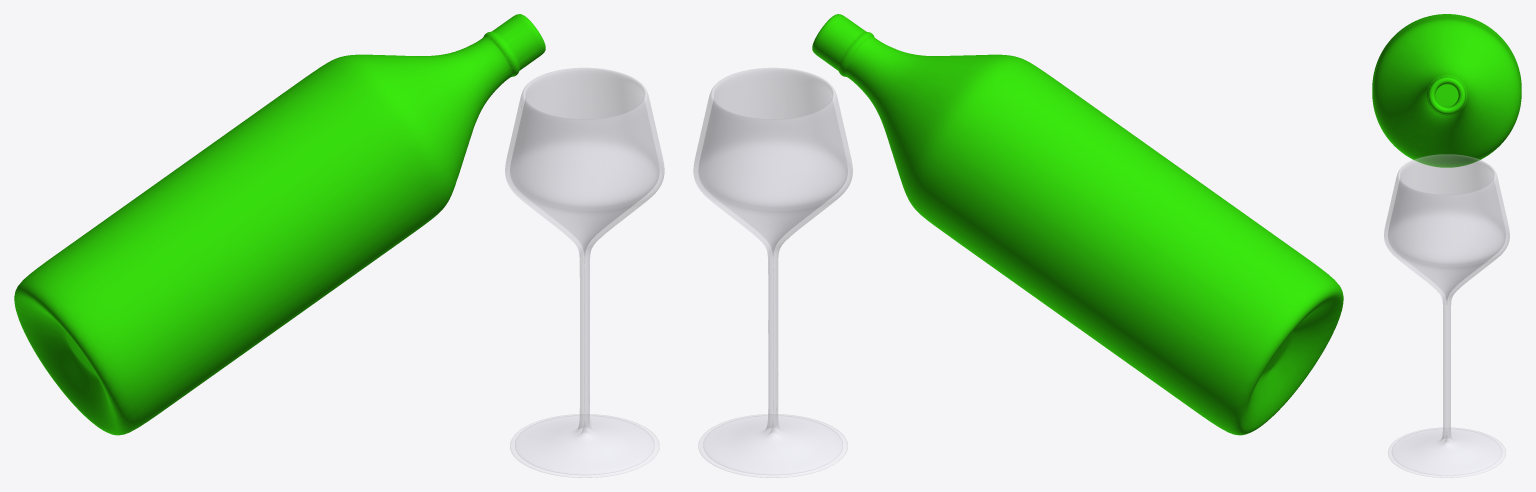
The model's file is wine.glb.
3 views of the same model, side by side, from view 1: azimuth 30°, elevation 25°; view 2: azimuth 150°, elevation 25°; view 3: azimuth 270°, elevation 25° (orthographic). The views are drawn at different scales.
Visible parts, largest first — view 1: Bottle, Glass; view 2: Bottle, Glass; view 3: Glass, Bottle.
Part boxes in pixels (x1,y1,x2,y2): Bottle: [14, 14, 545, 435]; Glass: [505, 68, 664, 477]; Bottle: [812, 14, 1343, 435]; Glass: [693, 68, 852, 477]; Glass: [1384, 154, 1509, 477]; Bottle: [1372, 14, 1521, 167].
Size of the model in its own units: 11.25 by 7.77 by 2.99.
